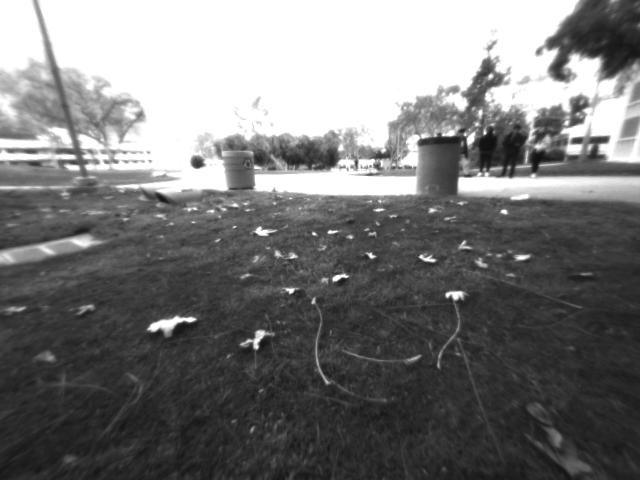trashcan: (411, 130, 466, 199), (216, 142, 261, 198)
